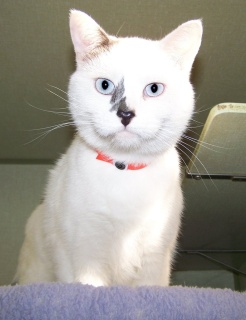Cat: (10, 9, 240, 285)
